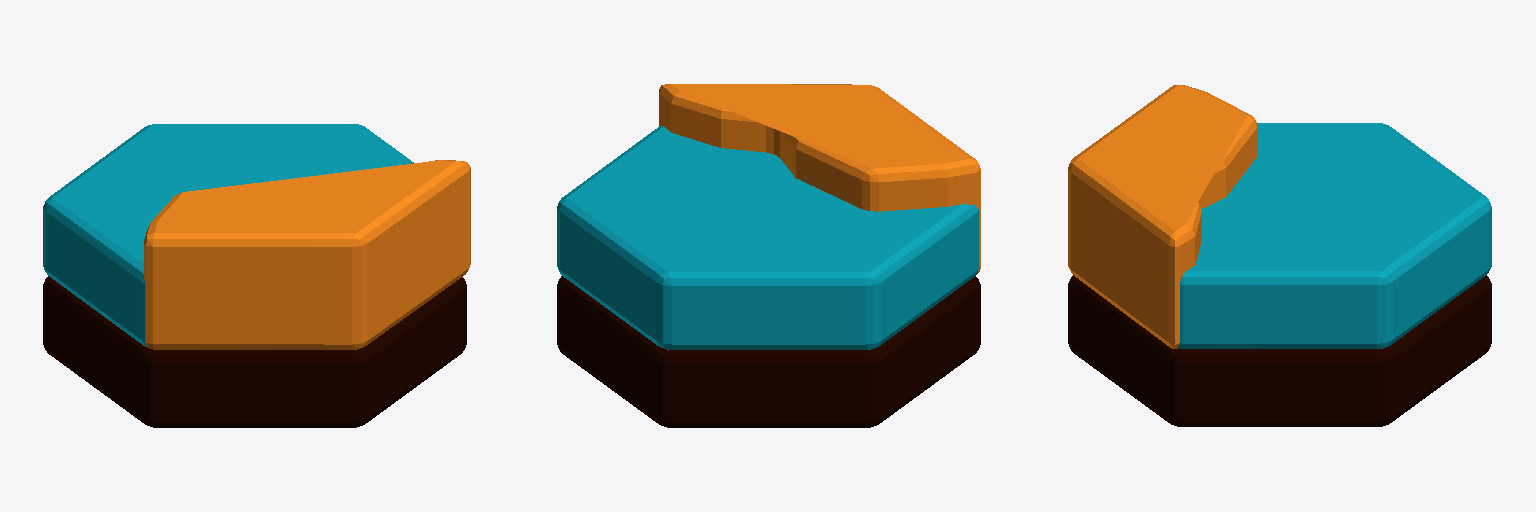
Rendered from ground_water_border3.obj.
3 views of the same model, side by side, from view 1: azimuth 30°, elevation 25°; view 2: azimuth 150°, elevation 25°; view 3: azimuth 270°, elevation 25° (orthographic).
Visible parts, largest first — view 1: ground_water_border3; view 2: ground_water_border3; view 3: ground_water_border3.
Part boxes in pixels (x1,y1,x2,y2): ground_water_border3: (43,124,470,427); ground_water_border3: (557,84,980,427); ground_water_border3: (1068,85,1491,426).
Bounding box in the file's own units: 6.97 × 4 × 7.9.